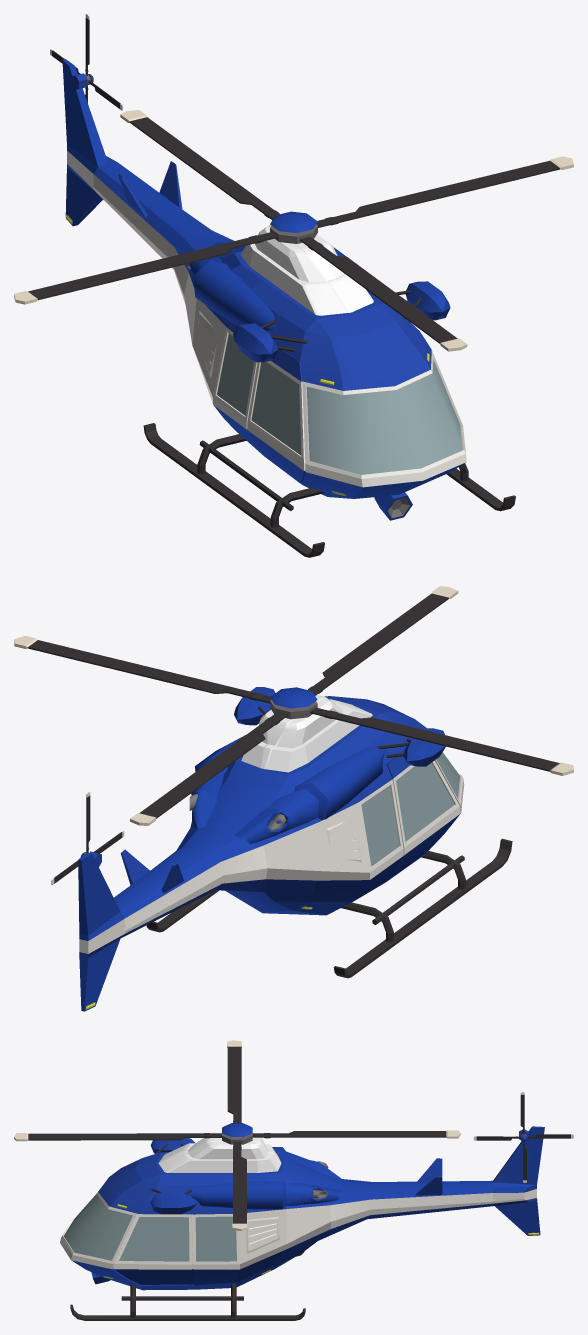
File: g_o_PoliceHelicopter.fbx
3 views of the same model, one above another, from view 1: azimuth 30°, elevation 25°; view 2: azimuth 150°, elevation 25°; view 3: azimuth 270°, elevation 25° (orthographic). The views are drawn at different scales.
Parts seen in each view (by area): view 1: helicopter_police; view 2: helicopter_police; view 3: helicopter_police.
Part boxes in pixels (x1,y1,x2,y2): helicopter_police: (14, 14, 573, 557); helicopter_police: (14, 586, 573, 1011); helicopter_police: (14, 1040, 573, 1320).
Size of the model in its own units: 8.04 by 3.88 by 10.07.
